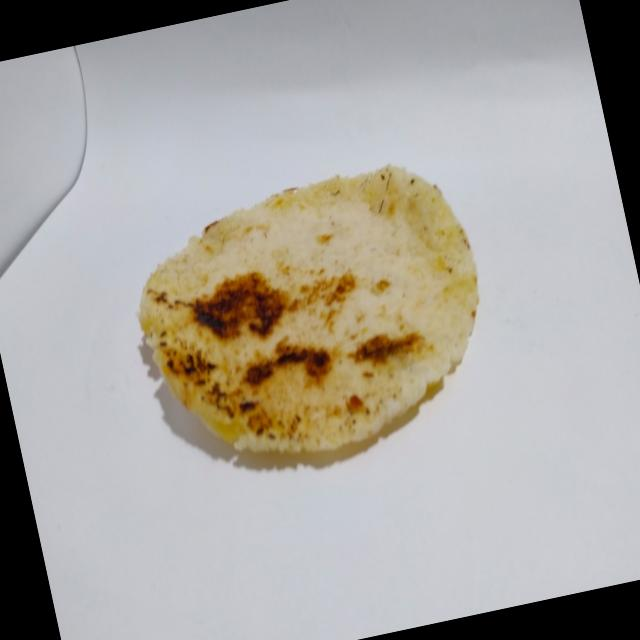Mbeju: (102, 138, 520, 504)
